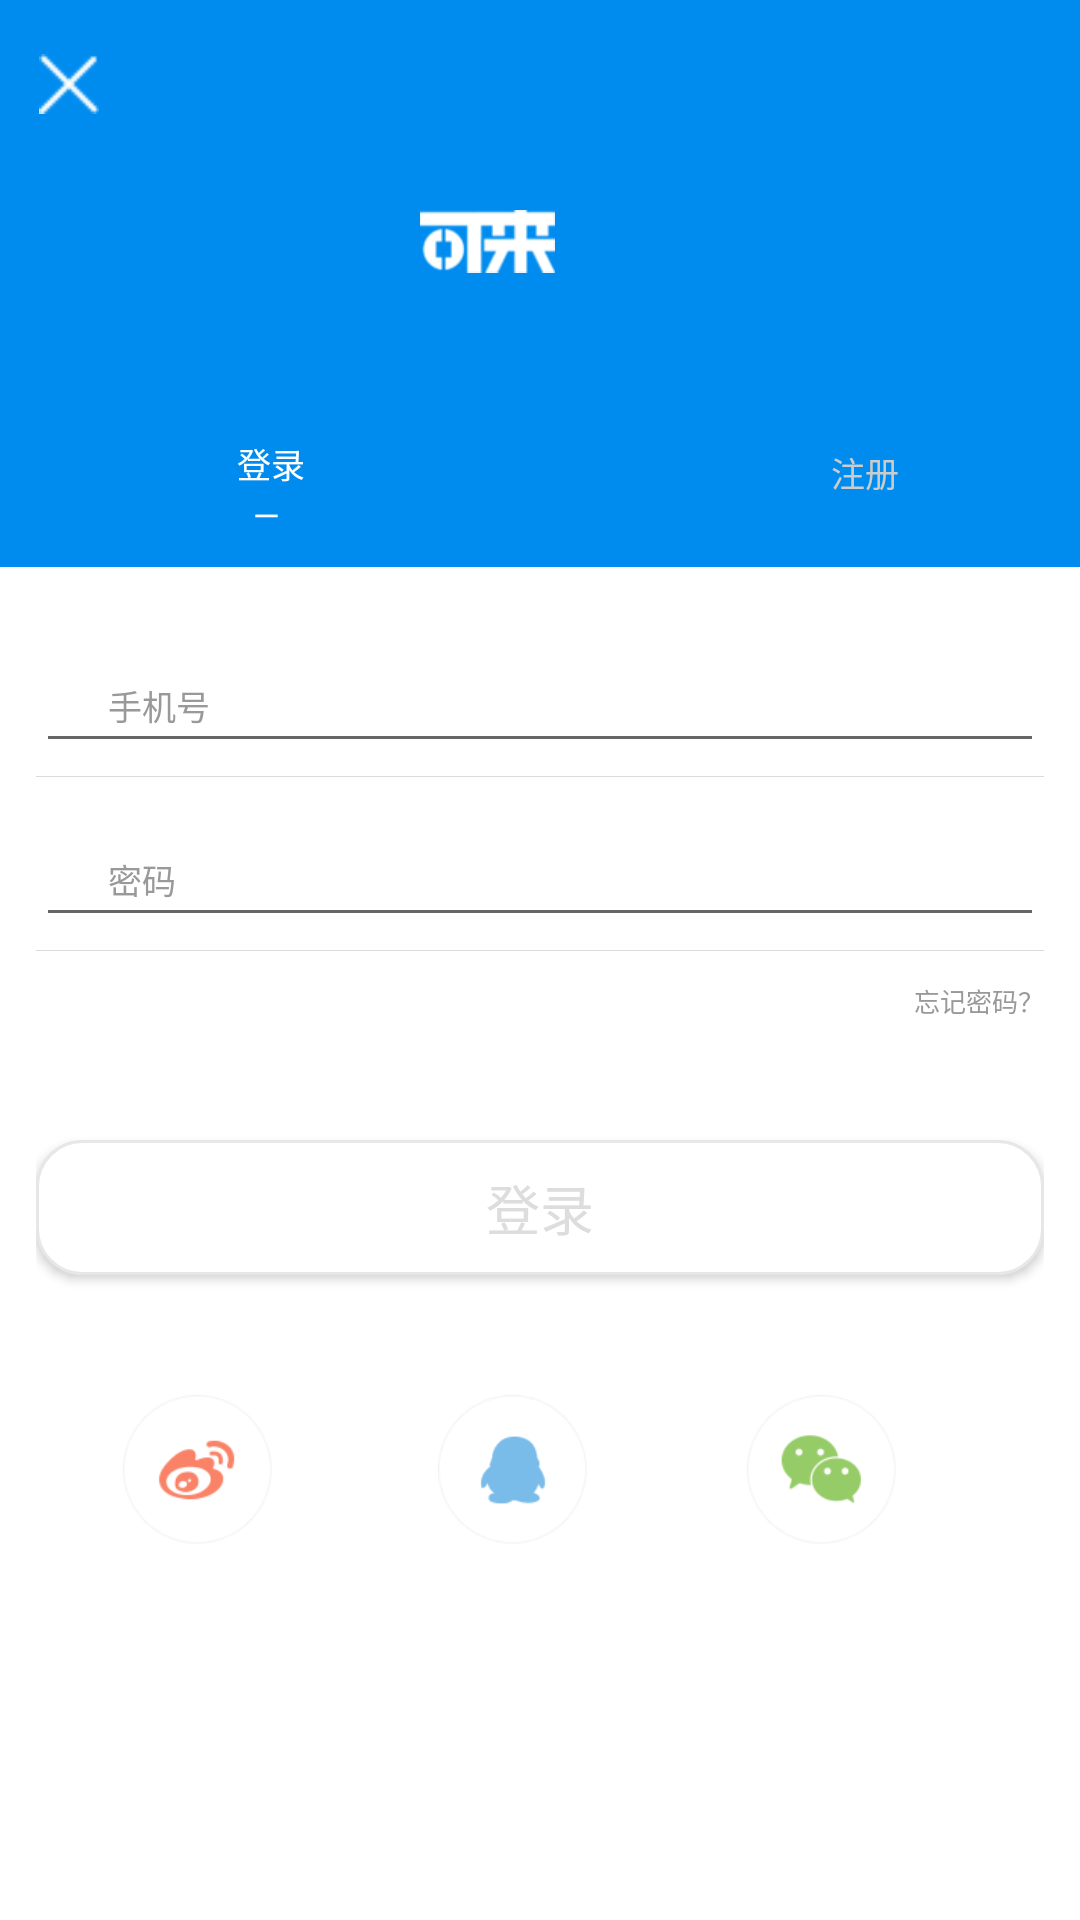

Screen size 1080px×1920px. Icon name, then its center in pixels as point (x, y):
close: point (69, 84)
